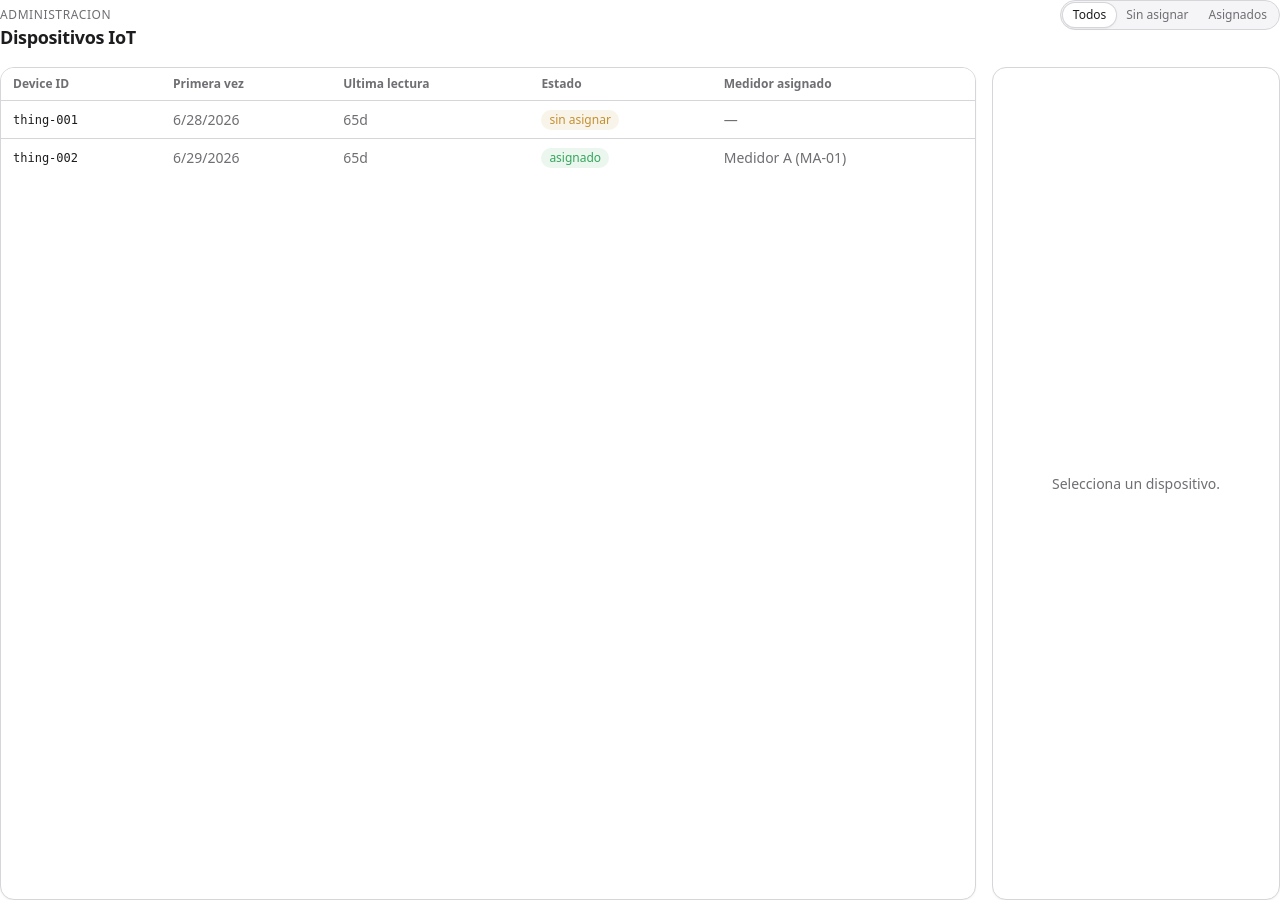
Test case: IotDevicesPage › clicking Asignar opens drawer with building selector
Click the text "thing-001".
click(81, 120)  # box [1,100,161,138]
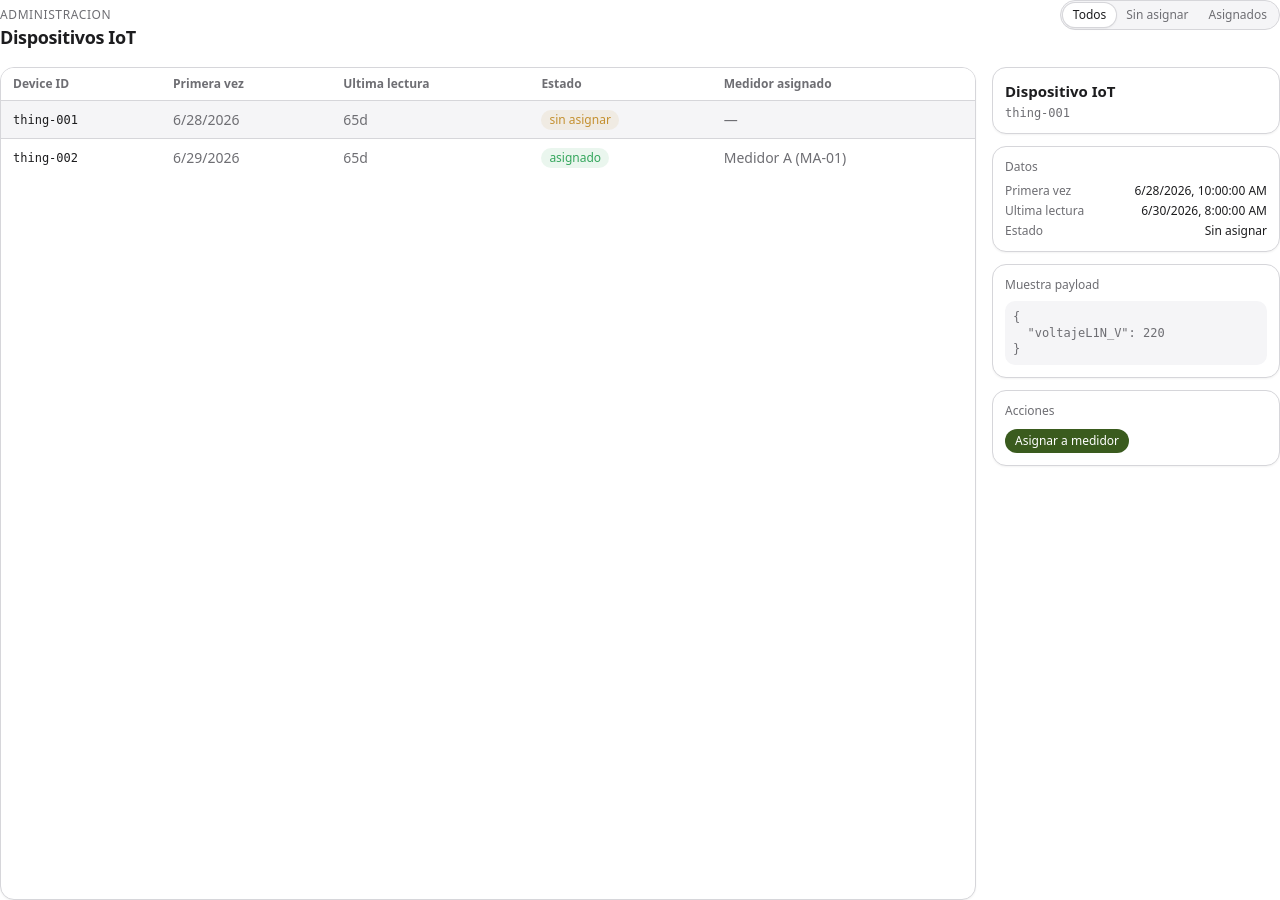
Click the button "Asignar a medidor".
click(1067, 440)  # box [1005,428,1129,452]
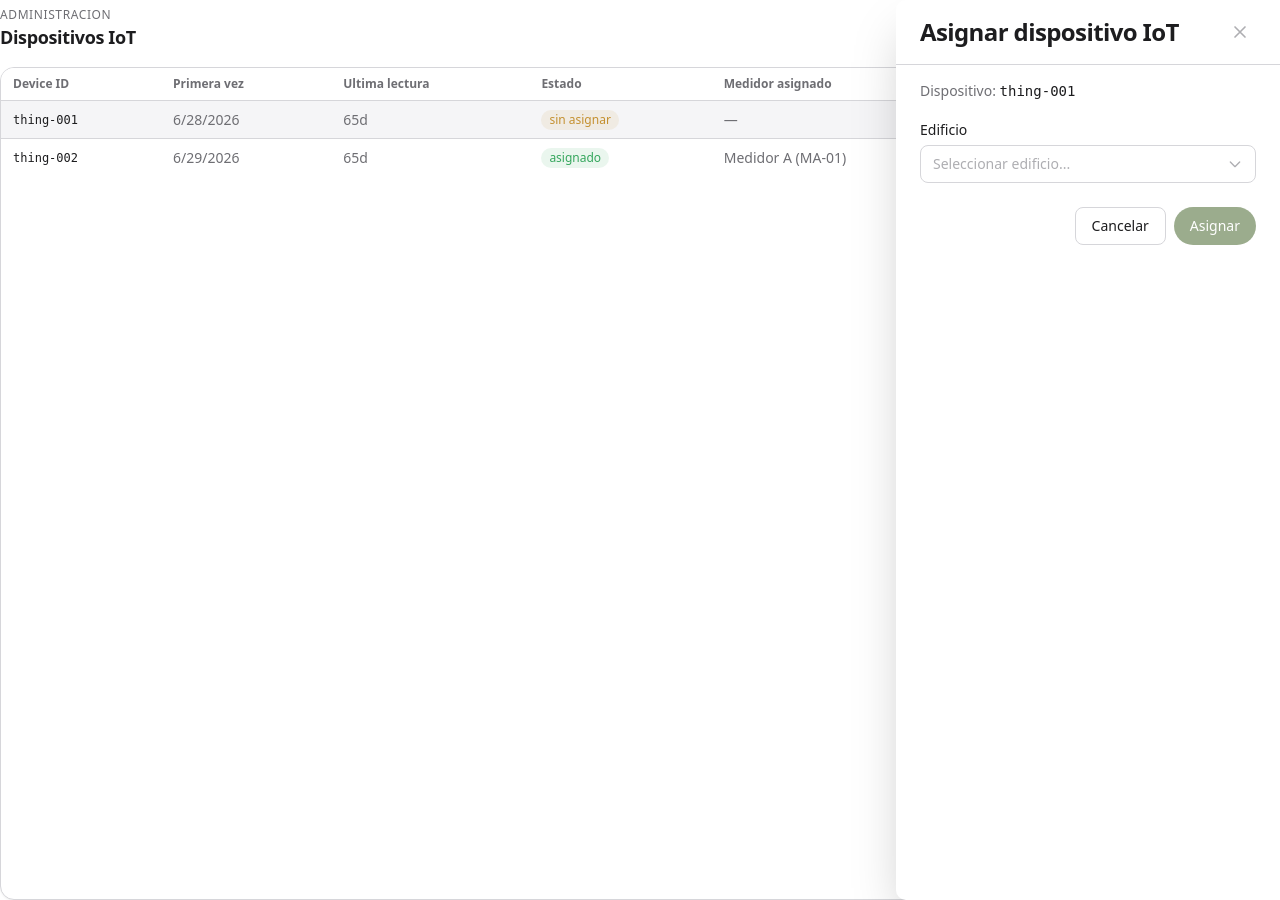
Expected: the heading "Asignar dispositivo IoT" is shown, [920,16,1179,48]
Expected: the text "Edificio" is shown, [920,120,967,139]
